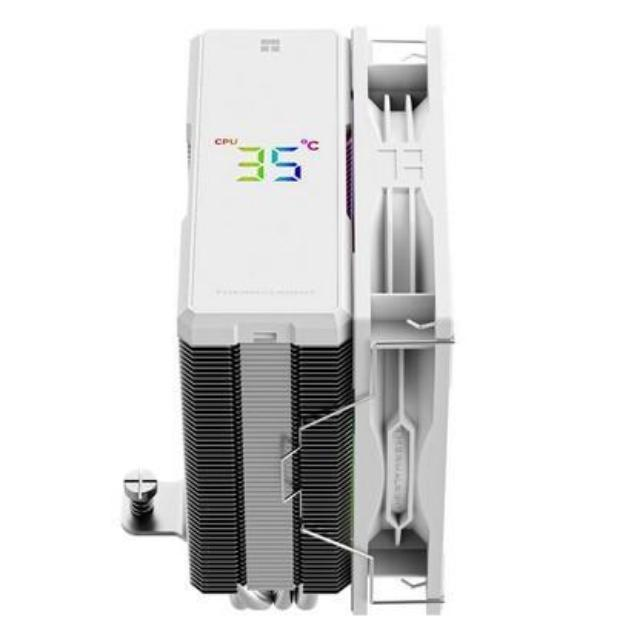CPU_Fan: (164, 0, 456, 618)
